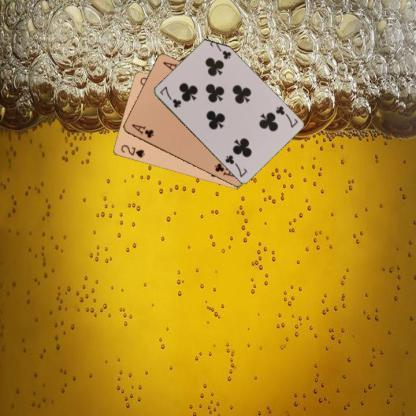2s: (118, 142, 146, 159)
7c: (156, 84, 182, 110), (272, 103, 298, 129)
Ac: (129, 122, 155, 140)
